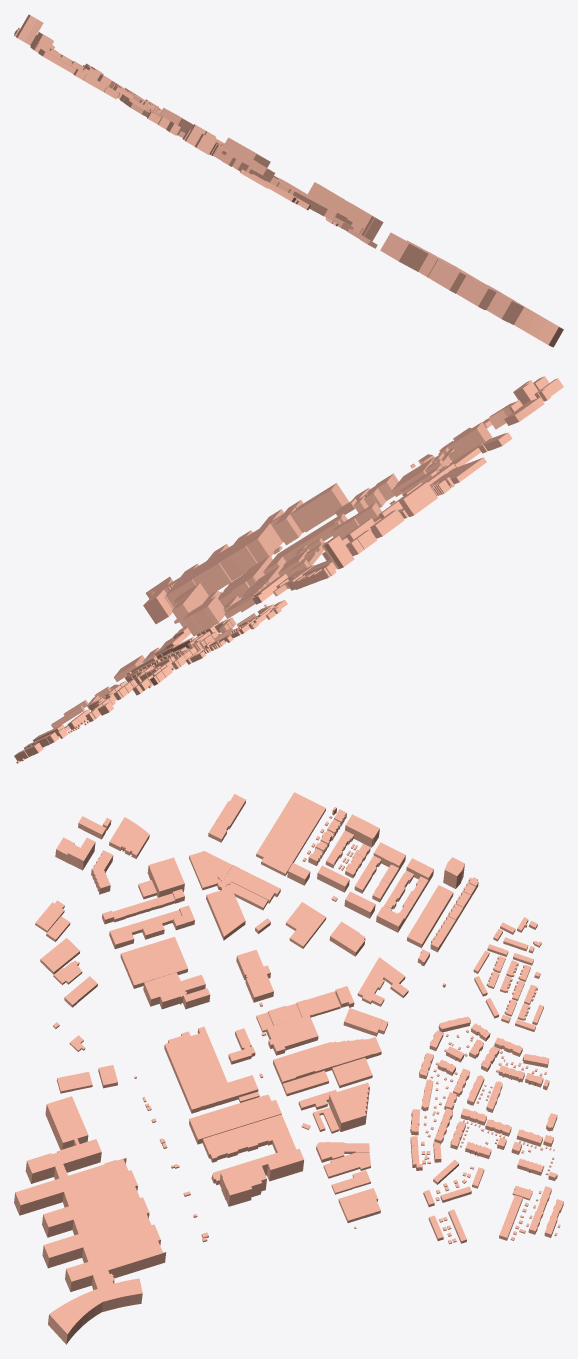
The picture shows the model from 3 angles, top to bottom: view 1: azimuth 30°, elevation 25°; view 2: azimuth 150°, elevation 25°; view 3: azimuth 270°, elevation 25°; orthographic projection. The views are drawn at different scales.
Bounding box in the file's own units: 632 × 461 × 671.
